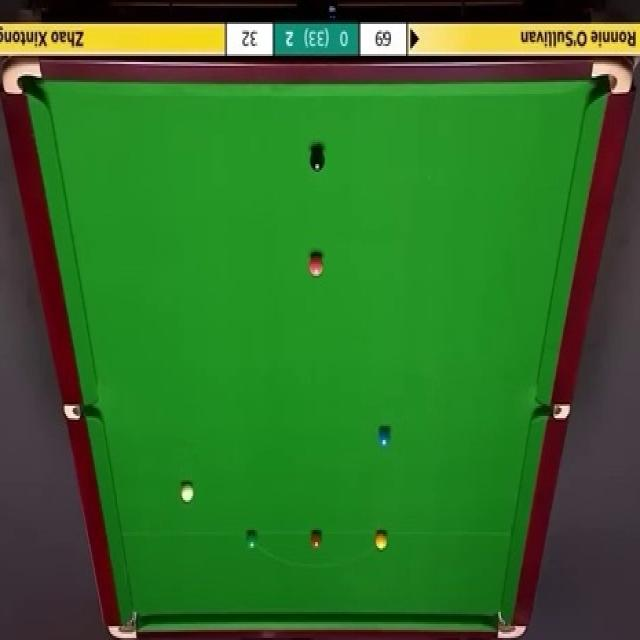black-ball: (309, 147, 325, 173)
blue-ball: (376, 425, 392, 448)
brown-ball: (310, 531, 323, 548)
green-ball: (244, 528, 258, 552)
pink-ball: (308, 250, 324, 278)
white-ball: (180, 480, 194, 502)
yellow-ball: (374, 530, 388, 551)
